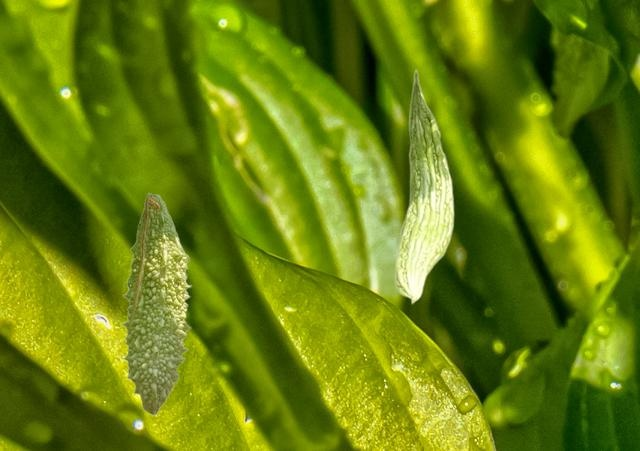ampalaya: (121, 192, 192, 416), (394, 68, 456, 305)
